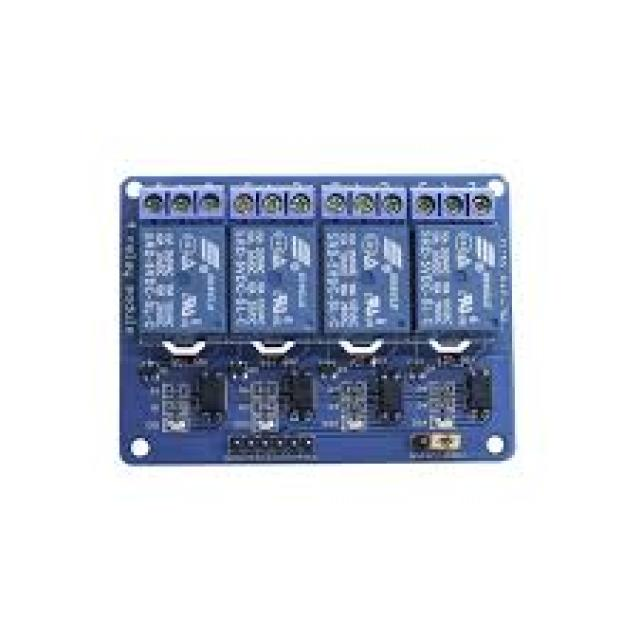Relay: (117, 168, 518, 469)
